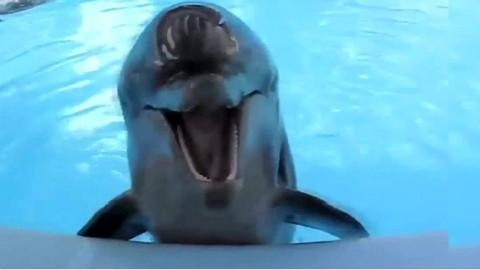fish: (79, 3, 368, 238)
